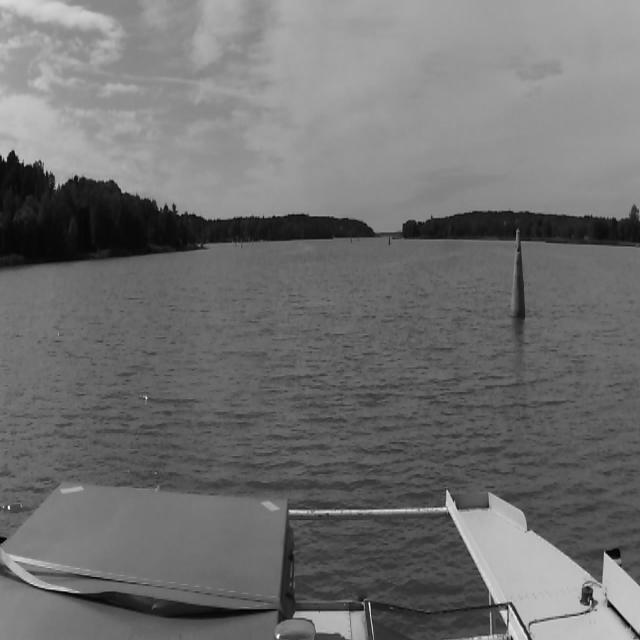buoy: (510, 228, 526, 320), (389, 236, 391, 246), (240, 238, 242, 248), (251, 239, 253, 245)
